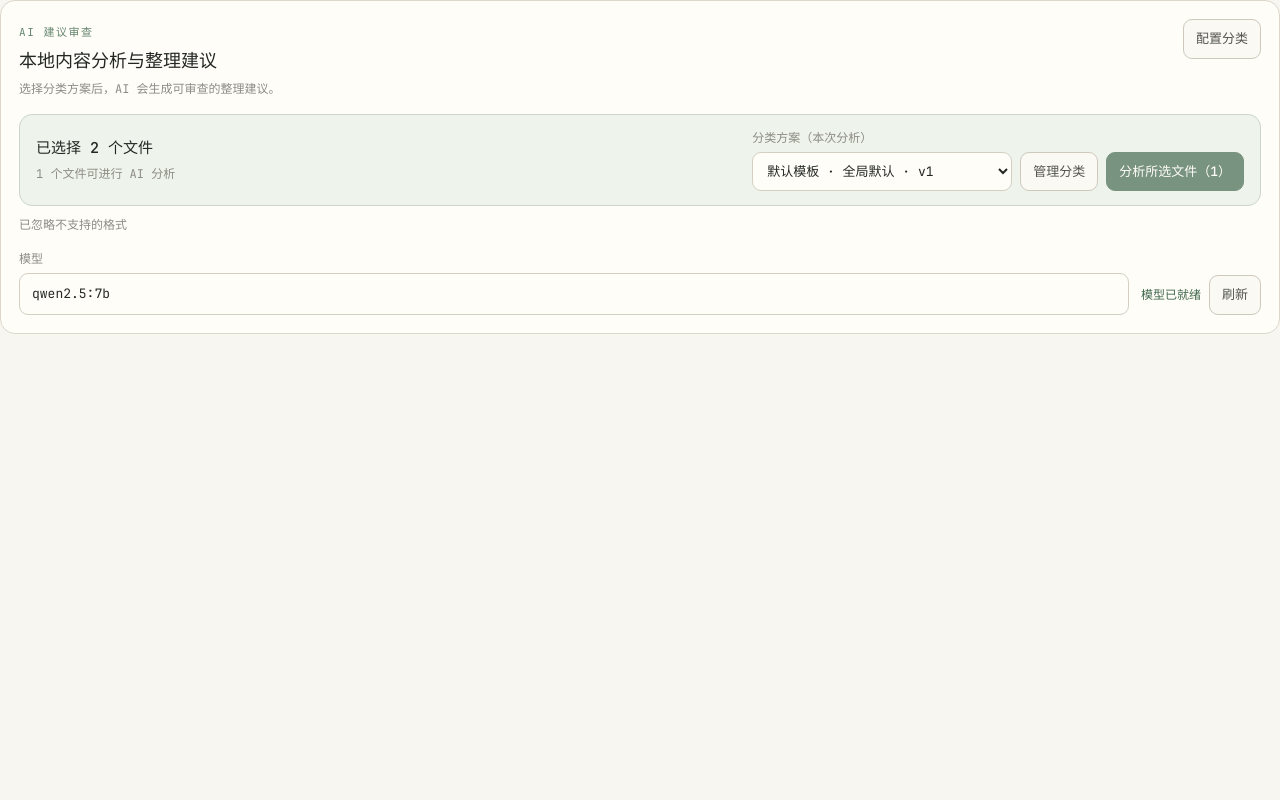
Test: renders a template library with rename for the global template and no global delete
The width and height of the screenshot is (1280, 800).
expect the text "模型已就绪" is shown: met, box x1=1141 y1=286 x2=1201 y2=304
Click the button "配置分类" at (1222, 39), box x1=1183 y1=19 x2=1261 y2=58
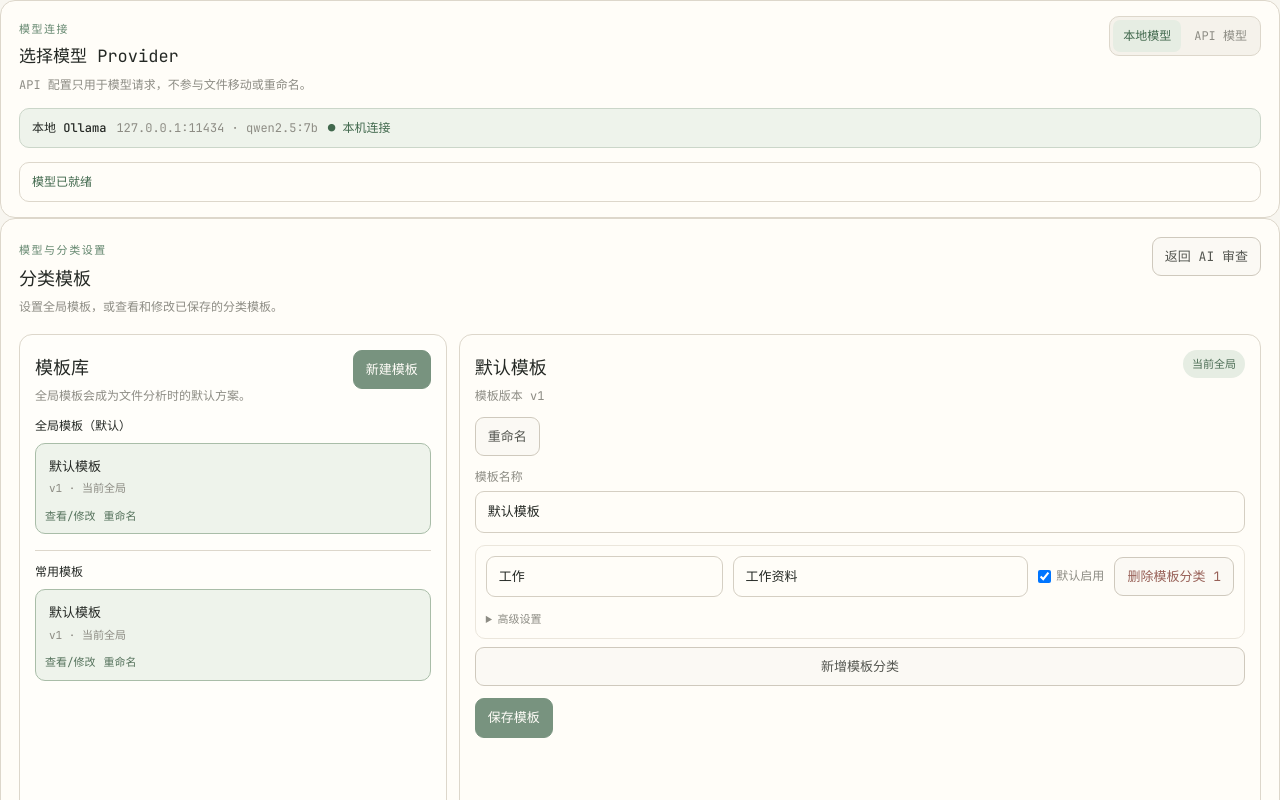
expect the heading "模板库" is shown: met, box x1=35 y1=356 x2=89 y2=378
expect the text "当前全局" is shown: met, box x1=1183 y1=350 x2=1245 y2=378
expect the button "新建模板" is shown: met, box x1=353 y1=350 x2=431 y2=389
